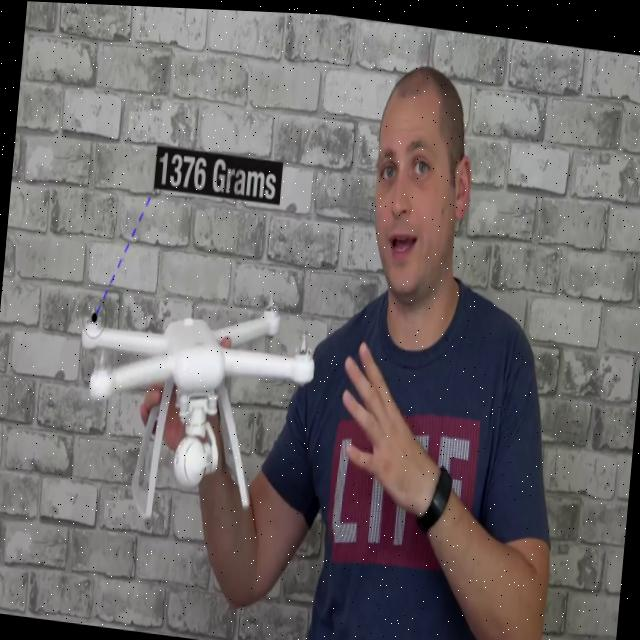drone: (58, 264, 340, 542)
